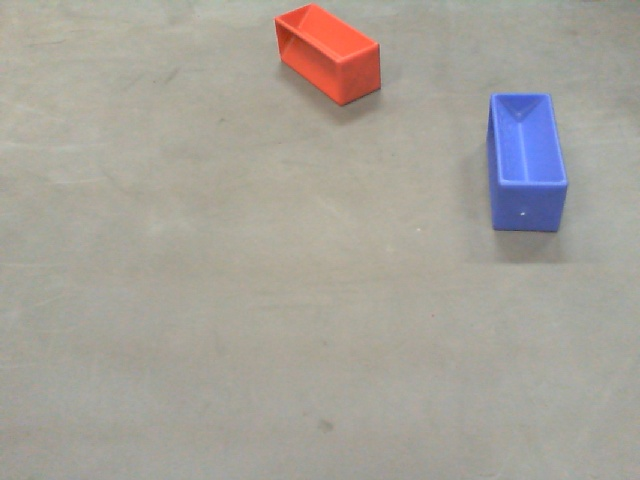BlueSample: (485, 88, 569, 238)
RedSample: (273, 1, 382, 108)
